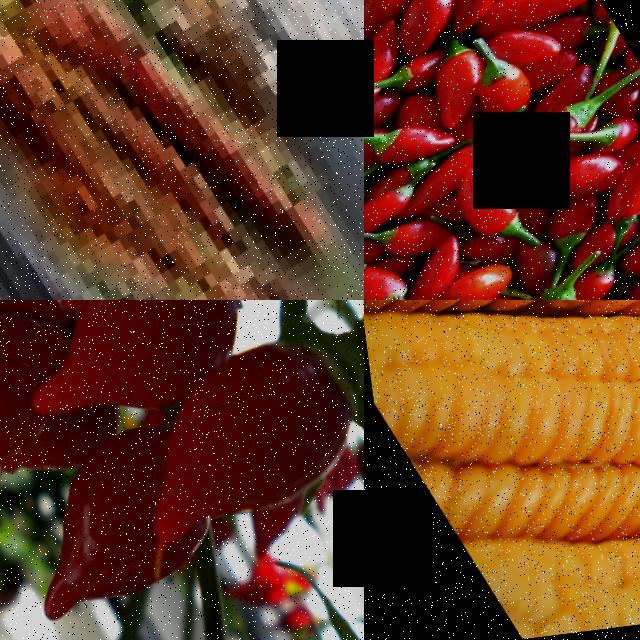chilli: (66, 307, 364, 596), (0, 300, 287, 476), (432, 164, 528, 270), (368, 0, 475, 77), (459, 62, 539, 144), (364, 185, 416, 278), (591, 263, 640, 300)
corn: (364, 300, 640, 640)
